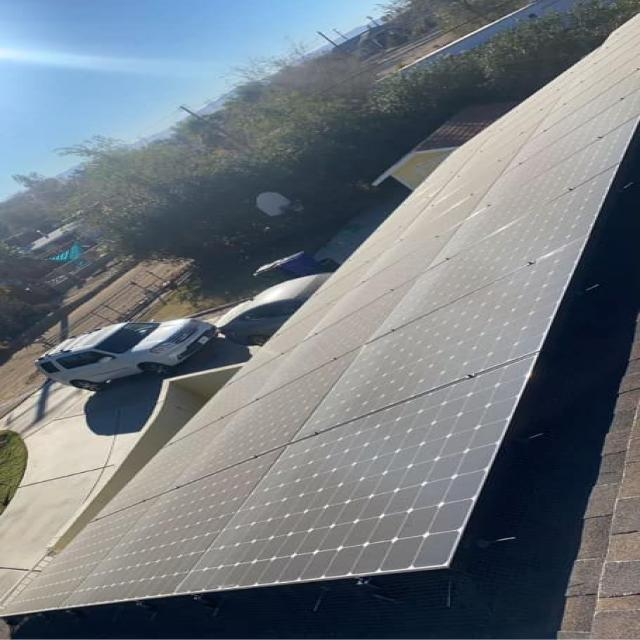dust-solar-panel: (0, 15, 640, 615)
